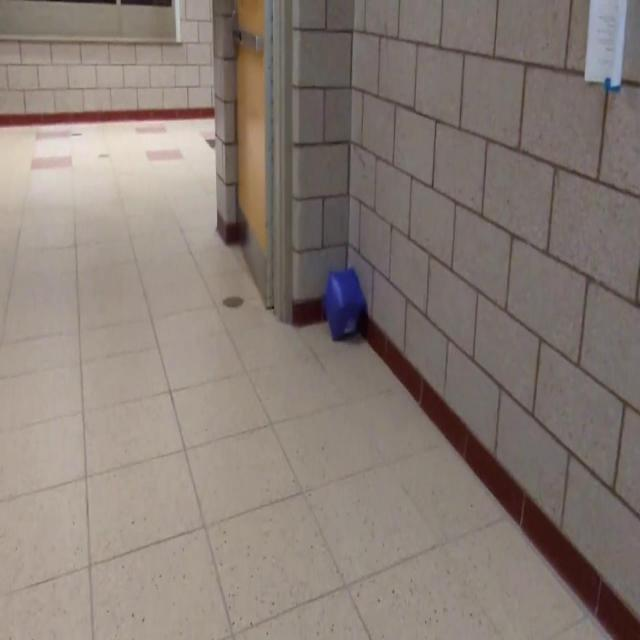frc_cube: (326, 266, 366, 341)
